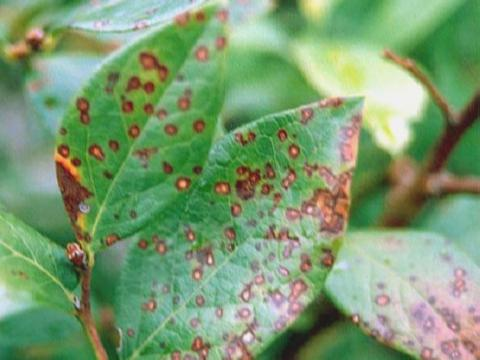Tomato Septoria leaf spot: (112, 91, 370, 357), (59, 5, 239, 280)
